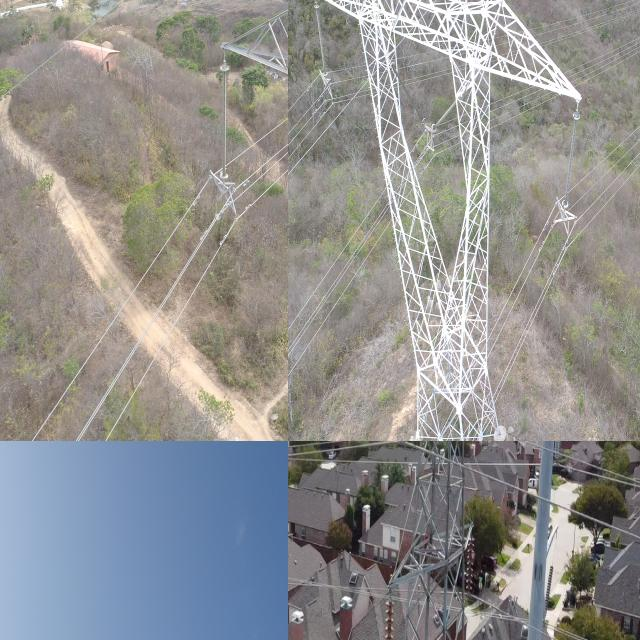杆塔: (325, 0, 580, 441), (375, 441, 473, 640)
正常电缆: (25, 179, 209, 441), (70, 213, 220, 441), (100, 221, 236, 441), (430, 205, 556, 441), (464, 236, 572, 441), (288, 220, 392, 384), (0, 0, 136, 108), (288, 193, 383, 339), (485, 467, 640, 546), (497, 441, 640, 494), (288, 98, 352, 186), (584, 160, 640, 236), (582, 149, 640, 218), (479, 596, 567, 640), (583, 135, 640, 199), (588, 117, 640, 178), (242, 164, 288, 220), (242, 136, 288, 188), (242, 108, 288, 159), (288, 96, 319, 137), (288, 78, 312, 120), (288, 114, 313, 150)
正常绝缘子: (553, 103, 587, 224), (213, 52, 234, 195), (307, 0, 335, 89), (464, 523, 476, 602), (381, 591, 398, 640)
